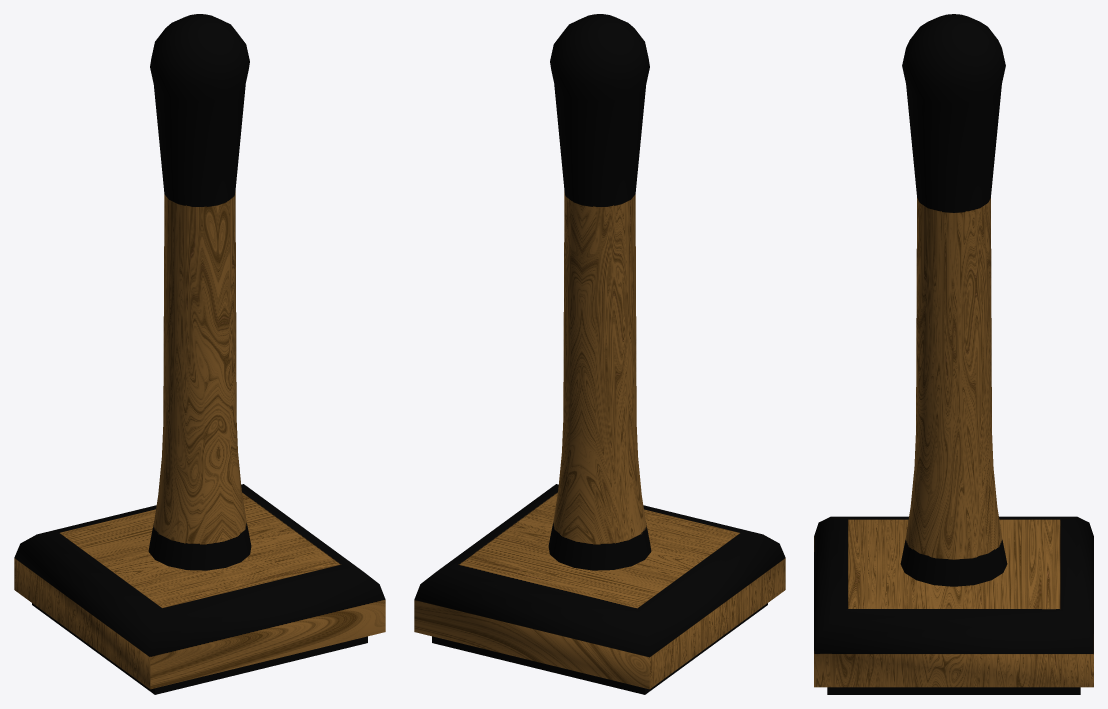
File: Elec_stamp.fbx
The picture shows the model from 3 angles, left to right: view 1: azimuth 30°, elevation 25°; view 2: azimuth 150°, elevation 25°; view 3: azimuth 270°, elevation 25°; orthographic projection. The views are drawn at different scales.
Parts seen in each view (by area): view 1: Cube; view 2: Cube; view 3: Cube.
Boxes of the visible parts, x1,y1,x2,y2 form: Cube: (14, 14, 385, 694); Cube: (414, 14, 785, 694); Cube: (814, 14, 1093, 694).
Bounding box in the file's own units: 200 × 491 × 200.
1 material, 1 textured.
